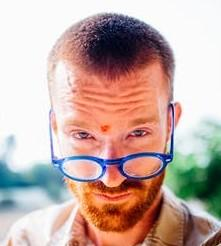Wrinkles: (83, 97, 141, 103), (66, 101, 102, 109), (121, 90, 148, 97), (85, 91, 114, 97), (128, 106, 151, 113)
